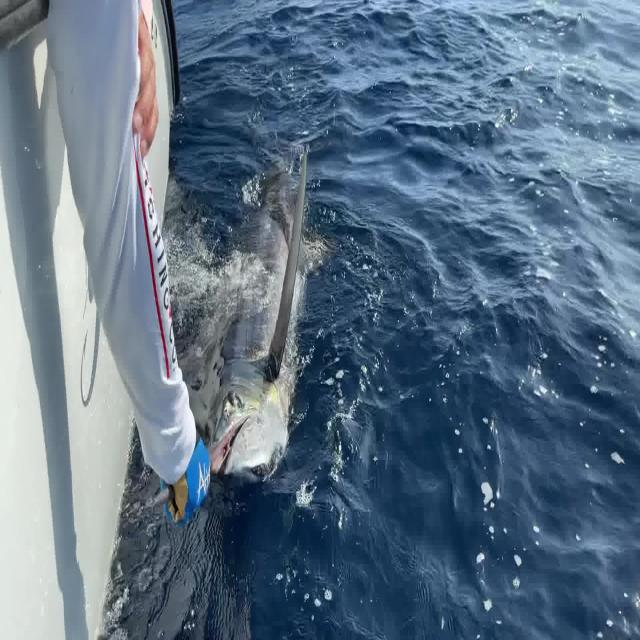Liberacion segura: (148, 143, 339, 509)
